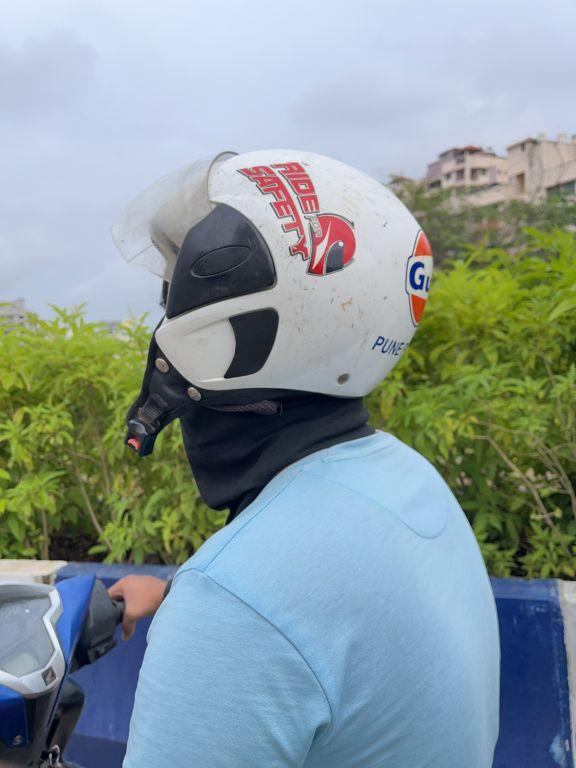helmet: (105, 134, 442, 470)
